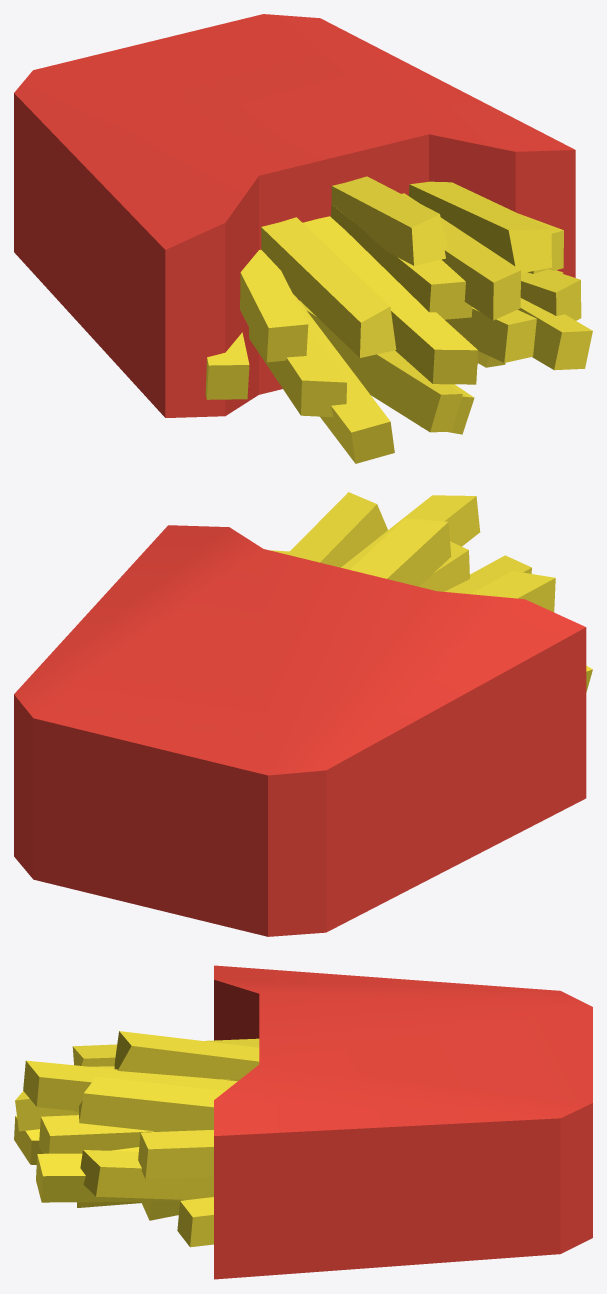
The model's file is FrenchFries_01.gltf.
The picture shows the model from 3 angles, top to bottom: view 1: azimuth 30°, elevation 25°; view 2: azimuth 150°, elevation 25°; view 3: azimuth 270°, elevation 25°; orthographic projection. The views are drawn at different scales.
Parts seen in each view (by area): view 1: node-0; view 2: node-0; view 3: node-0.
Part boxes in pixels (x1=…): node-0: x1=14, y1=14, x2=592, y2=463; node-0: x1=14, y1=492, x2=592, y2=936; node-0: x1=14, y1=965, x2=592, y2=1279.
Bounding box in the file's own units: 92.08 × 46.97 × 132.
